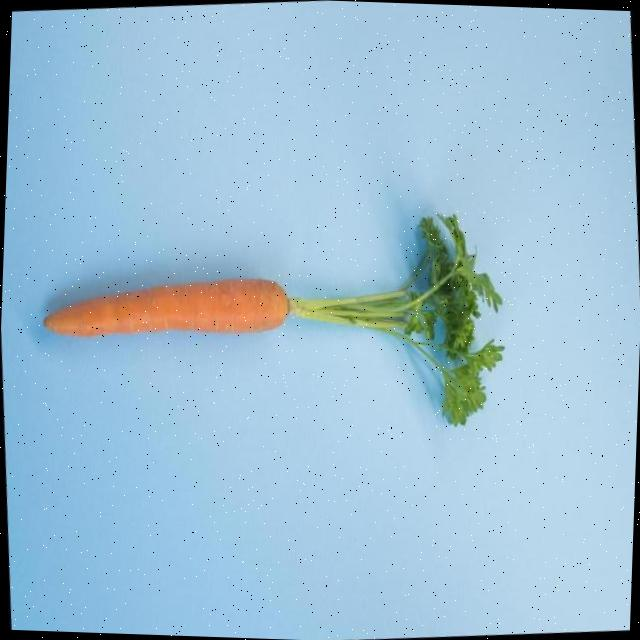carrot: (44, 279, 288, 335)
